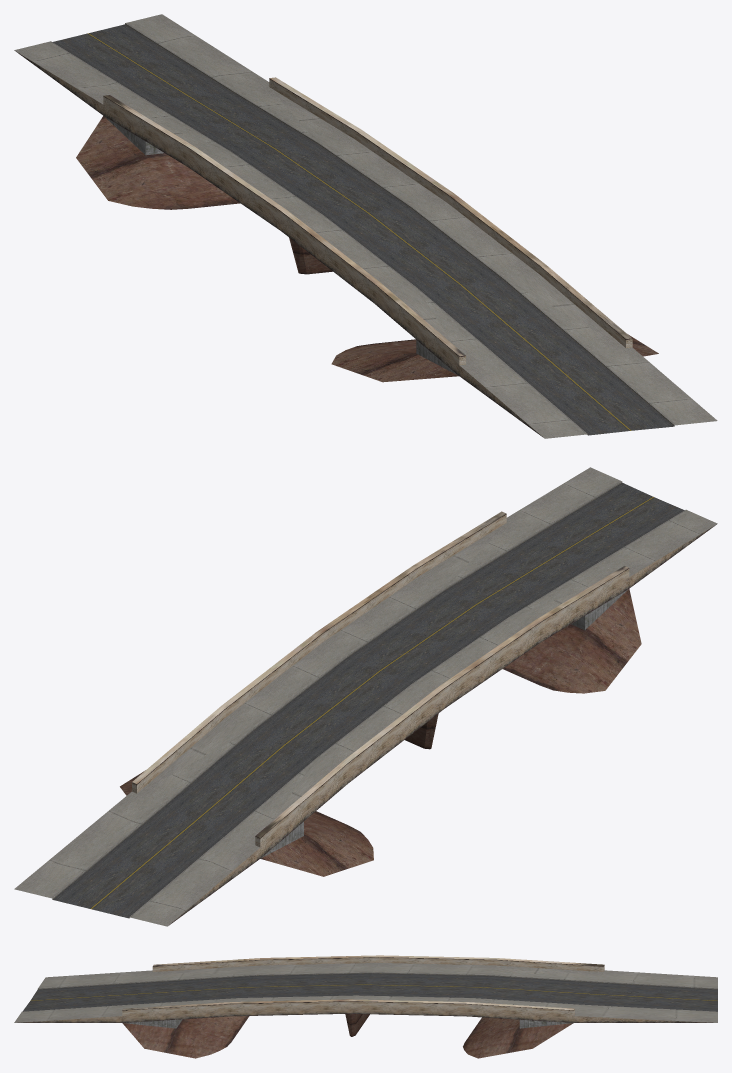
The model's file is vegasnroad62.obj.
The picture shows the model from 3 angles, top to bottom: view 1: azimuth 30°, elevation 25°; view 2: azimuth 150°, elevation 25°; view 3: azimuth 270°, elevation 25°; orthographic projection. The views are drawn at different scales.
Visible parts, largest first — view 1: vegasNroad62; view 2: vegasNroad62; view 3: vegasNroad62.
Boxes of the visible parts, bbox=[...] form: vegasNroad62: bbox=[14, 14, 717, 438]; vegasNroad62: bbox=[14, 467, 717, 926]; vegasNroad62: bbox=[14, 955, 717, 1058].
Size of the model in its own units: 34.18 by 8.39 by 130.
5 materials, 5 textured.
